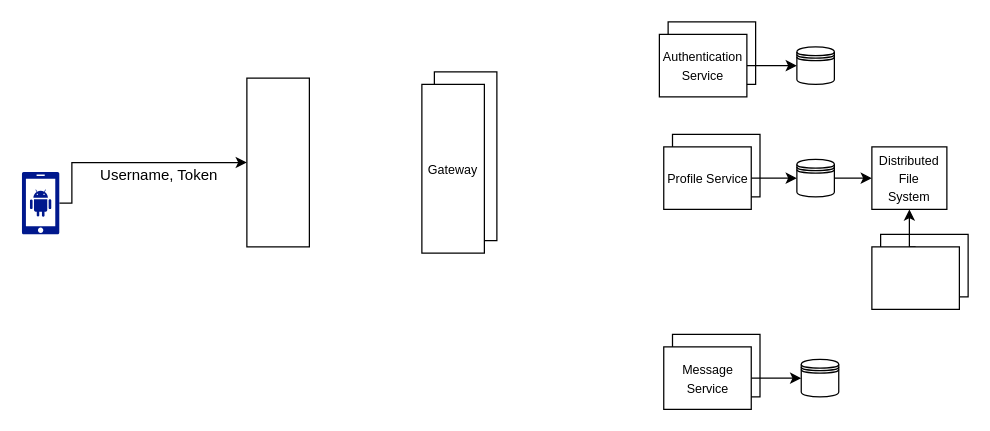
This 990x431 diagram has some shape labels left out. The centre of each missing label's shape, as x and y in pixels:
"Image Service" belongs at pixel 915 277.
"Load Balancer" belongs at pixel 277 162.
